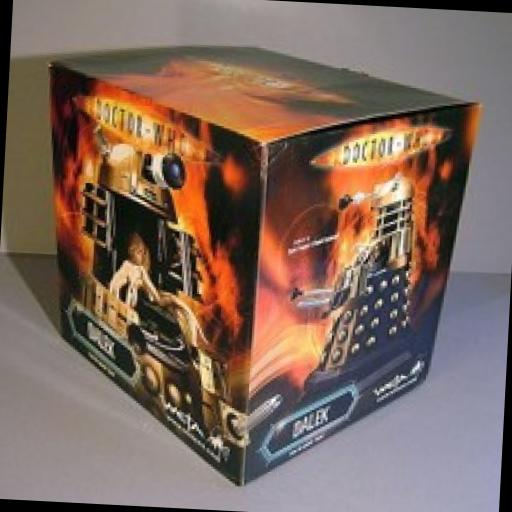dalek: (286, 174, 425, 388), (80, 108, 212, 241)
